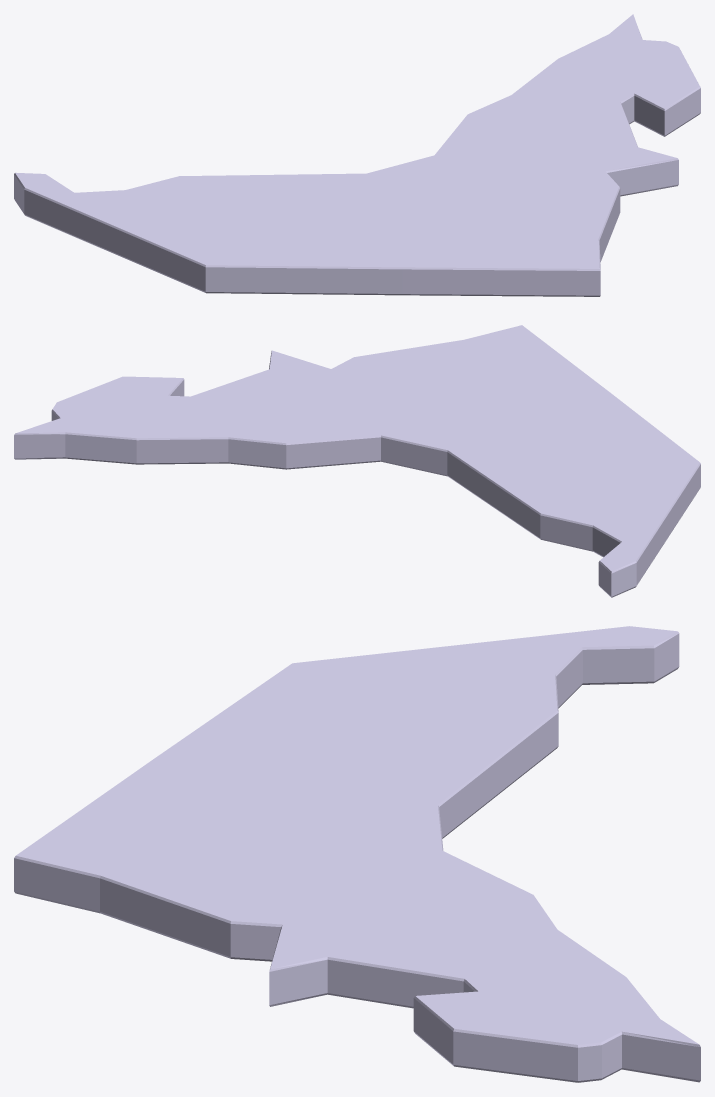
The model's file is ARE.glb.
3 renders of one model, top to bottom at view 1: azimuth 30°, elevation 25°; view 2: azimuth 150°, elevation 25°; view 3: azimuth 270°, elevation 25°, orthographic. The views are drawn at different scales.
Bounding box in the file's own units: 1.62 × 0.068 × 1.12.
